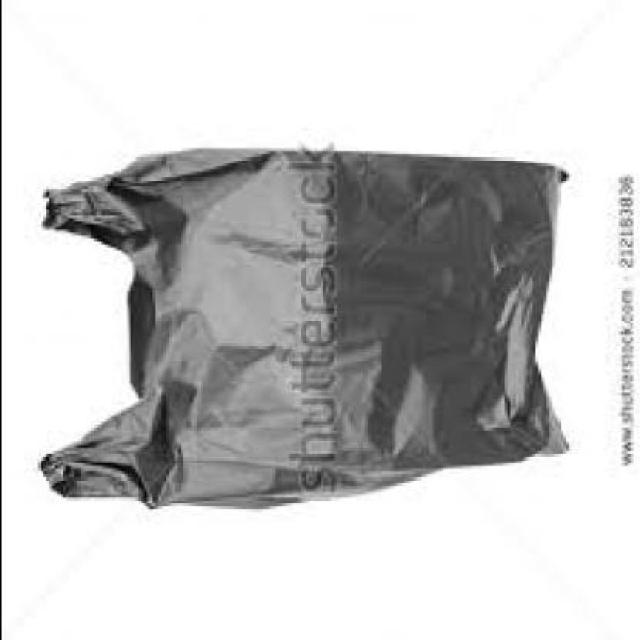PLASTIC: (33, 152, 564, 512)
